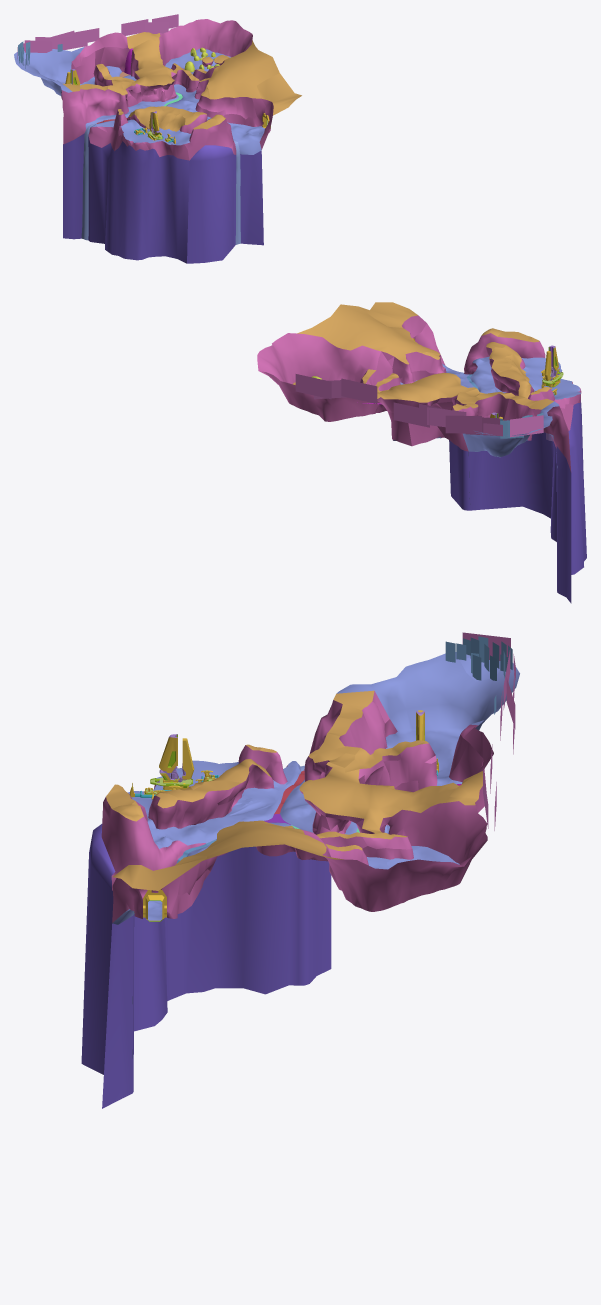
Rendered from halo_a30b.fbx.
3 views of the same model, one above another, from view 1: azimuth 30°, elevation 25°; view 2: azimuth 150°, elevation 25°; view 3: azimuth 270°, elevation 25° (orthographic). The views are drawn at different scales.
Parts seen in each view (by area): view 1: halo2.025, halo2.024, halo2.021, halo2.028, halo2.027, halo2.008, halo2.018; view 2: halo2.024, halo2.025, halo2.021, halo2.027, halo2.028, halo2.018; view 3: halo2.025, halo2.024, halo2.028, halo2.021, halo2.018, halo2.026, halo2.027.
Part boxes in pixels (x1,y1,x2,y2): halo2.025: (63,133,263,263); halo2.024: (61,19,273,160); halo2.021: (63,32,301,131); halo2.028: (14,47,264,154); halo2.027: (17,14,178,58); halo2.008: (81,123,240,244); halo2.018: (65,70,269,143); halo2.024: (257,315,581,472); halo2.025: (449,400,586,603); halo2.021: (293,302,553,410); halo2.027: (295,374,543,437); halo2.028: (393,356,580,457); halo2.018: (412,338,560,420); halo2.025: (81,824,331,1108); halo2.024: (101,691,493,922); halo2.028: (112,652,519,924); halo2.021: (106,690,482,890); halo2.018: (129,710,438,920); halo2.026: (445,636,512,714); halo2.027: (462,632,515,830).
Size of what is drawn, in the model's own units: 6089434 by 2021964 by 2442409.
